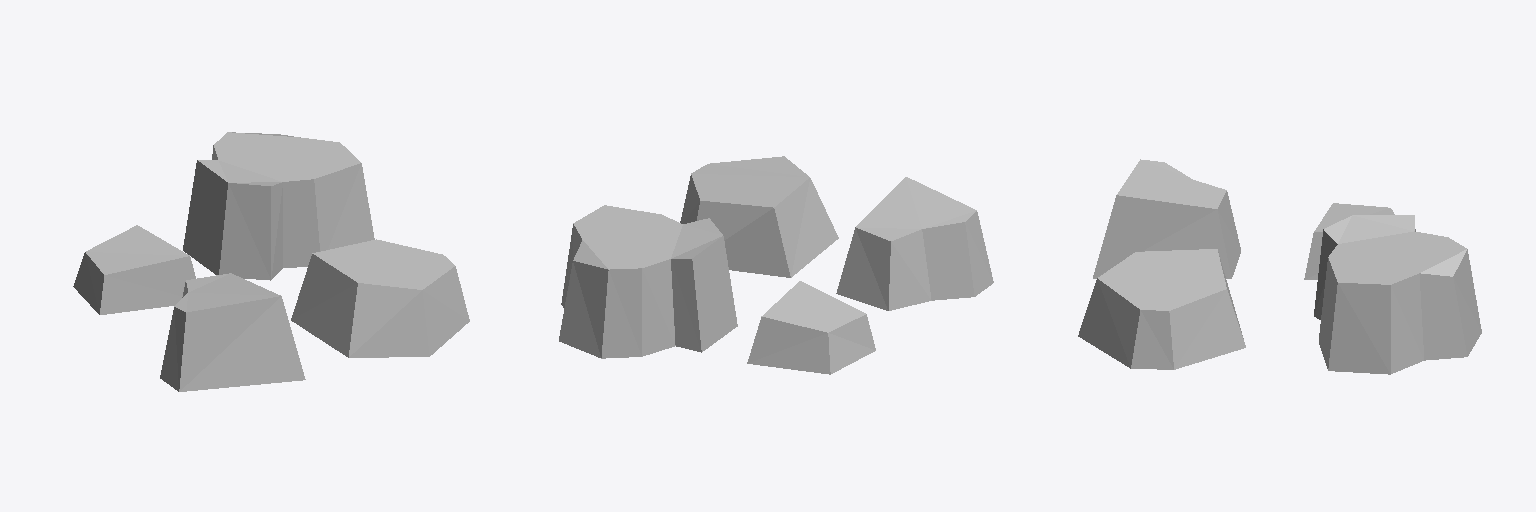
Rendered from rocks.obj.
3 renders of one model, left to right at view 1: azimuth 30°, elevation 25°; view 2: azimuth 150°, elevation 25°; view 3: azimuth 270°, elevation 25°, orthographic.
Visible parts, largest first — view 1: Rocks_w_Rocks_w_0; view 2: Rocks_w_Rocks_w_0; view 3: Rocks_w_Rocks_w_0.
Boxes of the visible parts, x1,y1,x2,y2 form: Rocks_w_Rocks_w_0: [73, 132, 469, 391]; Rocks_w_Rocks_w_0: [559, 156, 993, 374]; Rocks_w_Rocks_w_0: [1078, 159, 1481, 374].
Bounding box in the file's own units: 0.3275 × 0.0925 × 0.3787.